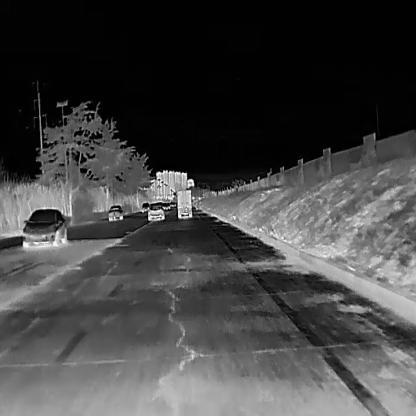car: (21, 208, 67, 248), (176, 189, 193, 218), (147, 201, 165, 221), (107, 203, 123, 221), (141, 202, 150, 212)
